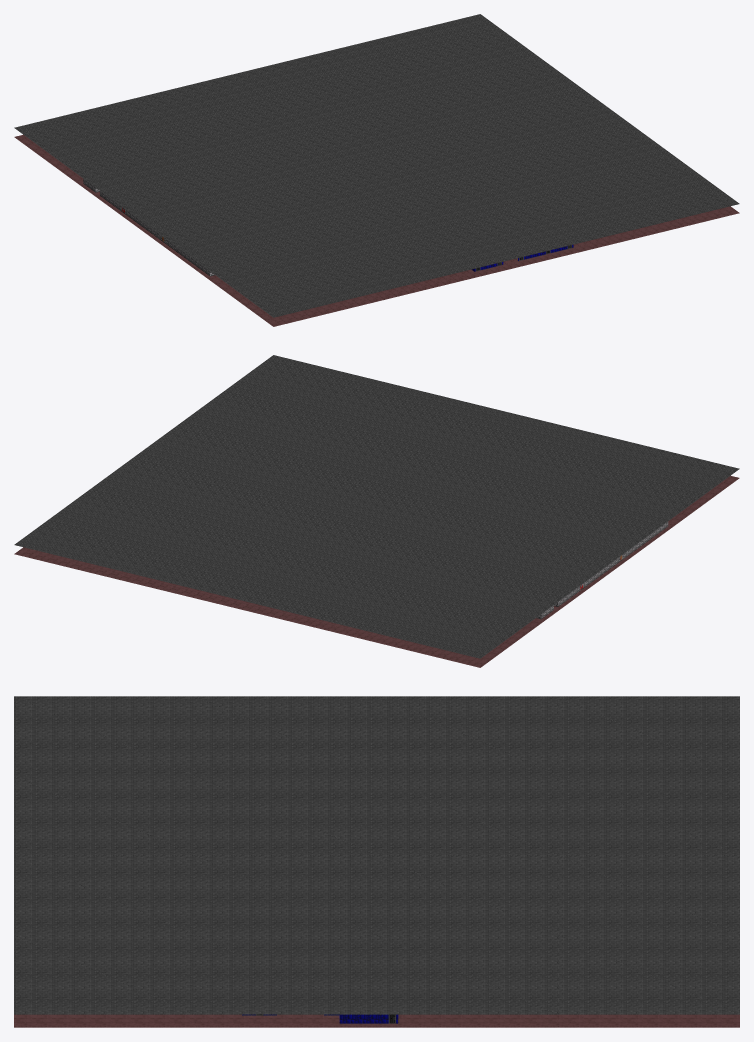
File: wolf.FBX
The picture shows the model from 3 angles, top to bottom: view 1: azimuth 30°, elevation 25°; view 2: azimuth 150°, elevation 25°; view 3: azimuth 270°, elevation 25°; orthographic projection. The views are drawn at different scales.
Visible parts, largest first — view 1: wolf; view 2: wolf; view 3: wolf.
Boxes of the visible parts, x1,y1,x2,y2 form: wolf: (14,14,739,326); wolf: (14,355,739,667); wolf: (14,696,739,1027).
Bounding box in the file's own units: 9556 × 9209 × 180.
